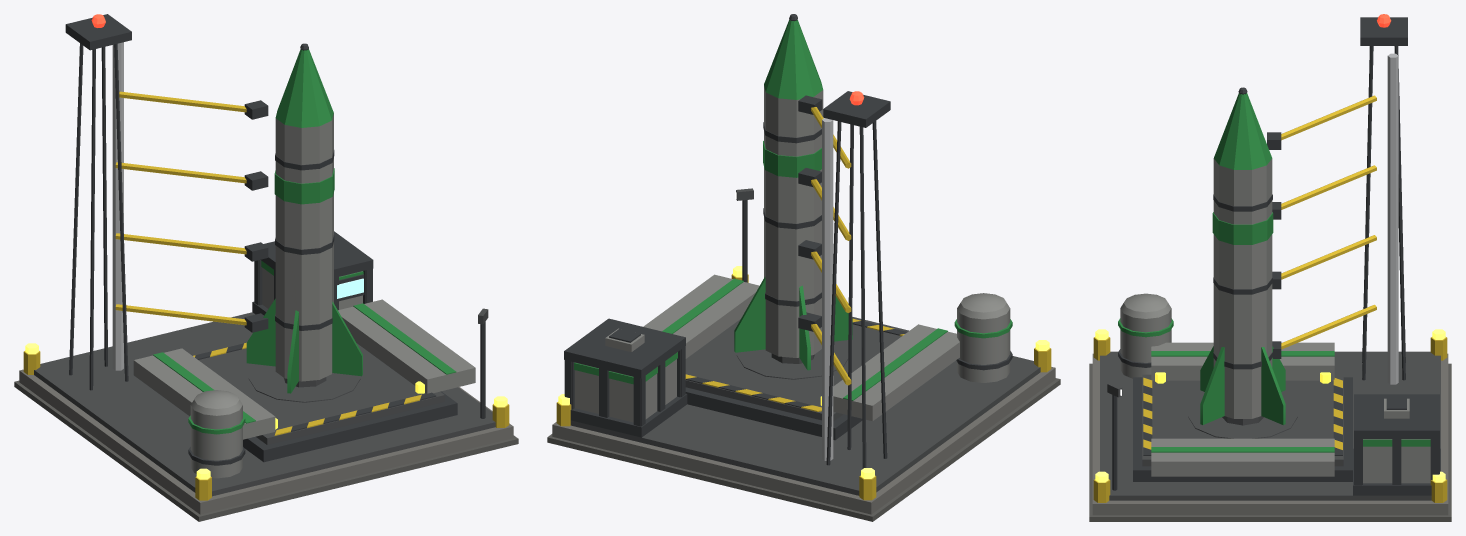
File: silo_lod1.glb
3 views of the same model, side by side, from view 1: azimuth 30°, elevation 25°; view 2: azimuth 150°, elevation 25°; view 3: azimuth 270°, elevation 25° (orthographic). The views are drawn at different scales.
Visible parts, largest first — view 1: Silo_LOD1_Foundation, Silo_LOD1_Walls, Silo_LOD1_mis, Silo_LOD1_Details, Silo_LOD1_Frame; view 2: Silo_LOD1_Foundation, Silo_LOD1_Walls, Silo_LOD1_mis, Silo_LOD1_Details, Silo_LOD1_Frame; view 3: Silo_LOD1_Foundation, Silo_LOD1_Walls, Silo_LOD1_mis, Silo_LOD1_Details, Silo_LOD1_Frame.
Part boxes in pixels (bbox=[...]): Silo_LOD1_Foundation: bbox=[14, 312, 518, 521]; Silo_LOD1_Walls: bbox=[133, 260, 475, 478]; Silo_LOD1_mis: bbox=[246, 43, 362, 393]; Silo_LOD1_Details: bbox=[69, 14, 488, 465]; Silo_LOD1_Frame: bbox=[65, 14, 457, 462]; Silo_LOD1_Foundation: bbox=[547, 266, 1060, 521]; Silo_LOD1_Walls: bbox=[574, 274, 1010, 422]; Silo_LOD1_mis: bbox=[734, 14, 852, 370]; Silo_LOD1_Details: bbox=[605, 91, 1012, 468]; Silo_LOD1_Frame: bbox=[564, 91, 890, 440]; Silo_LOD1_Foundation: bbox=[1089, 329, 1451, 521]; Silo_LOD1_Walls: bbox=[1120, 293, 1430, 483]; Silo_LOD1_mis: bbox=[1200, 87, 1285, 425]; Silo_LOD1_Details: bbox=[1107, 14, 1409, 490]; Silo_LOD1_Frame: bbox=[1133, 17, 1440, 495].
Size of the model in its own units: 1.98 by 2.28 by 1.98.
